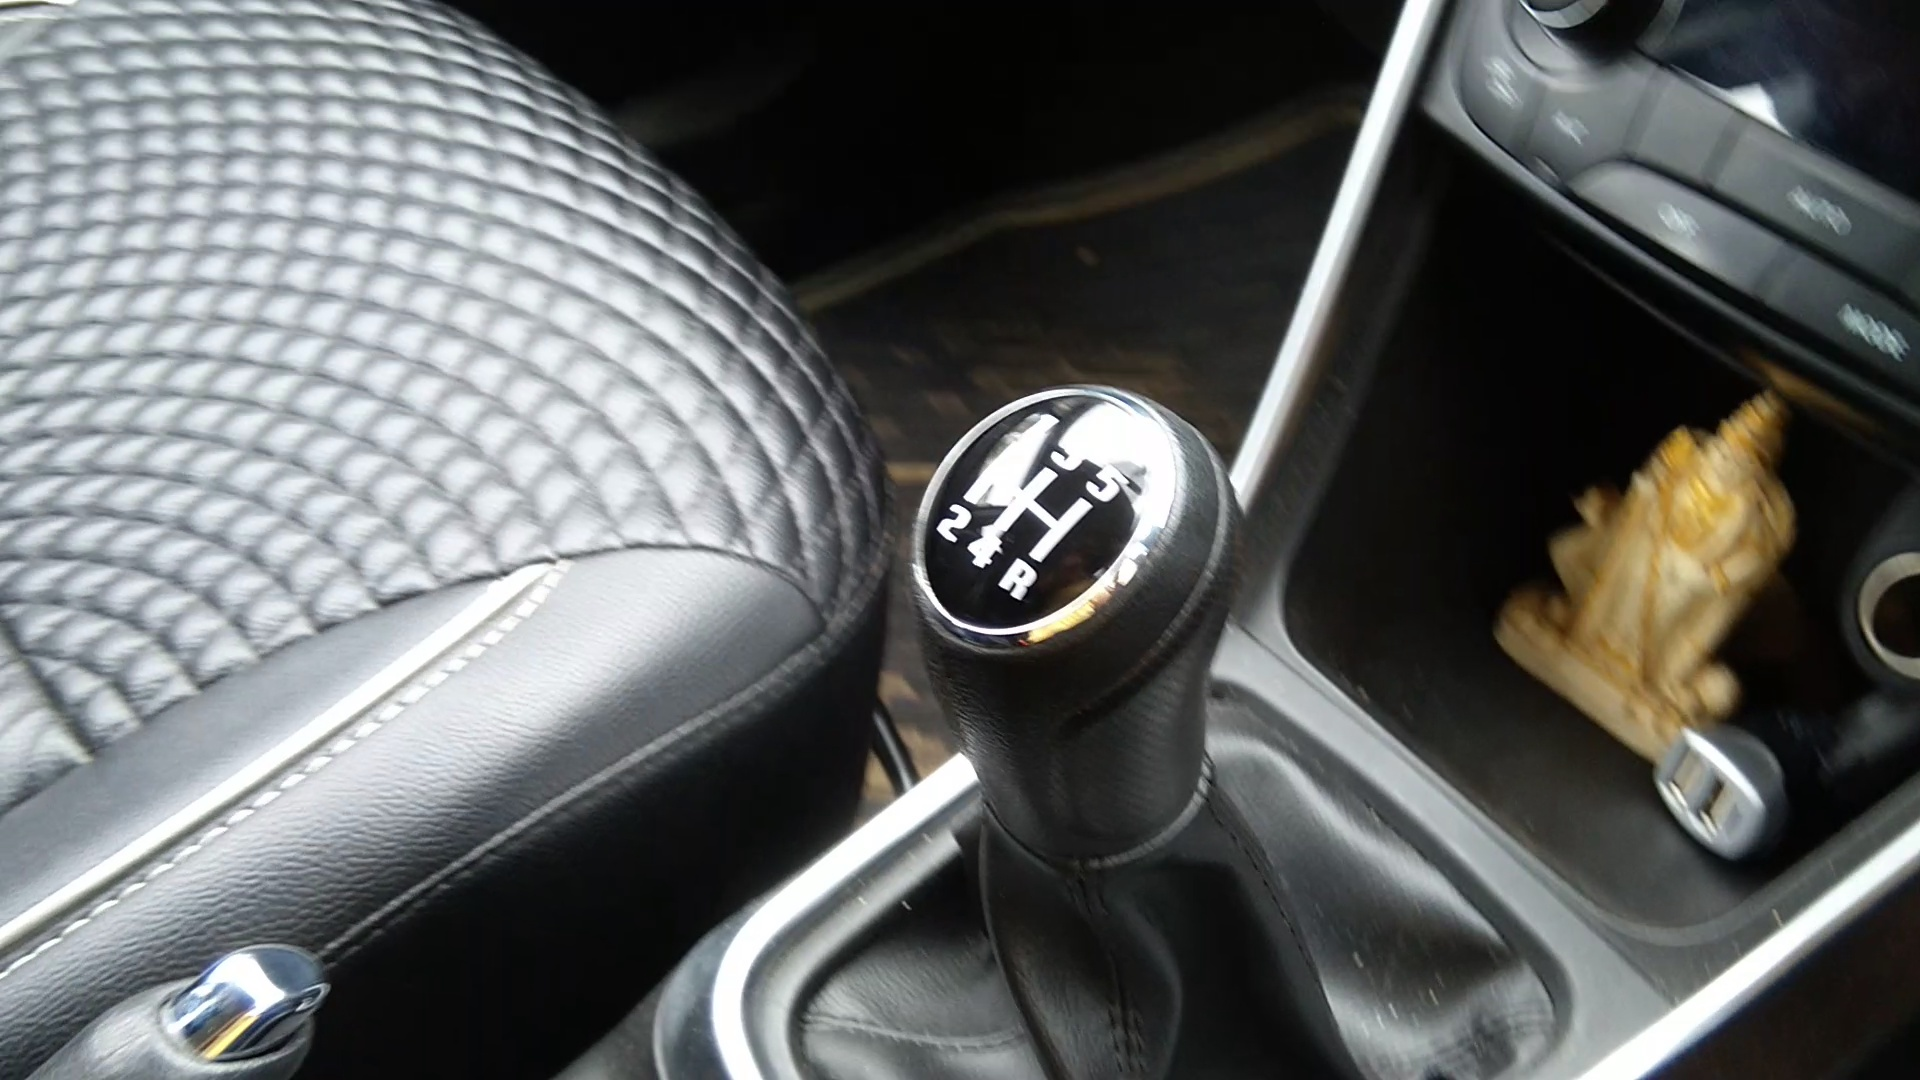manual_gear: (911, 380, 1259, 897)
